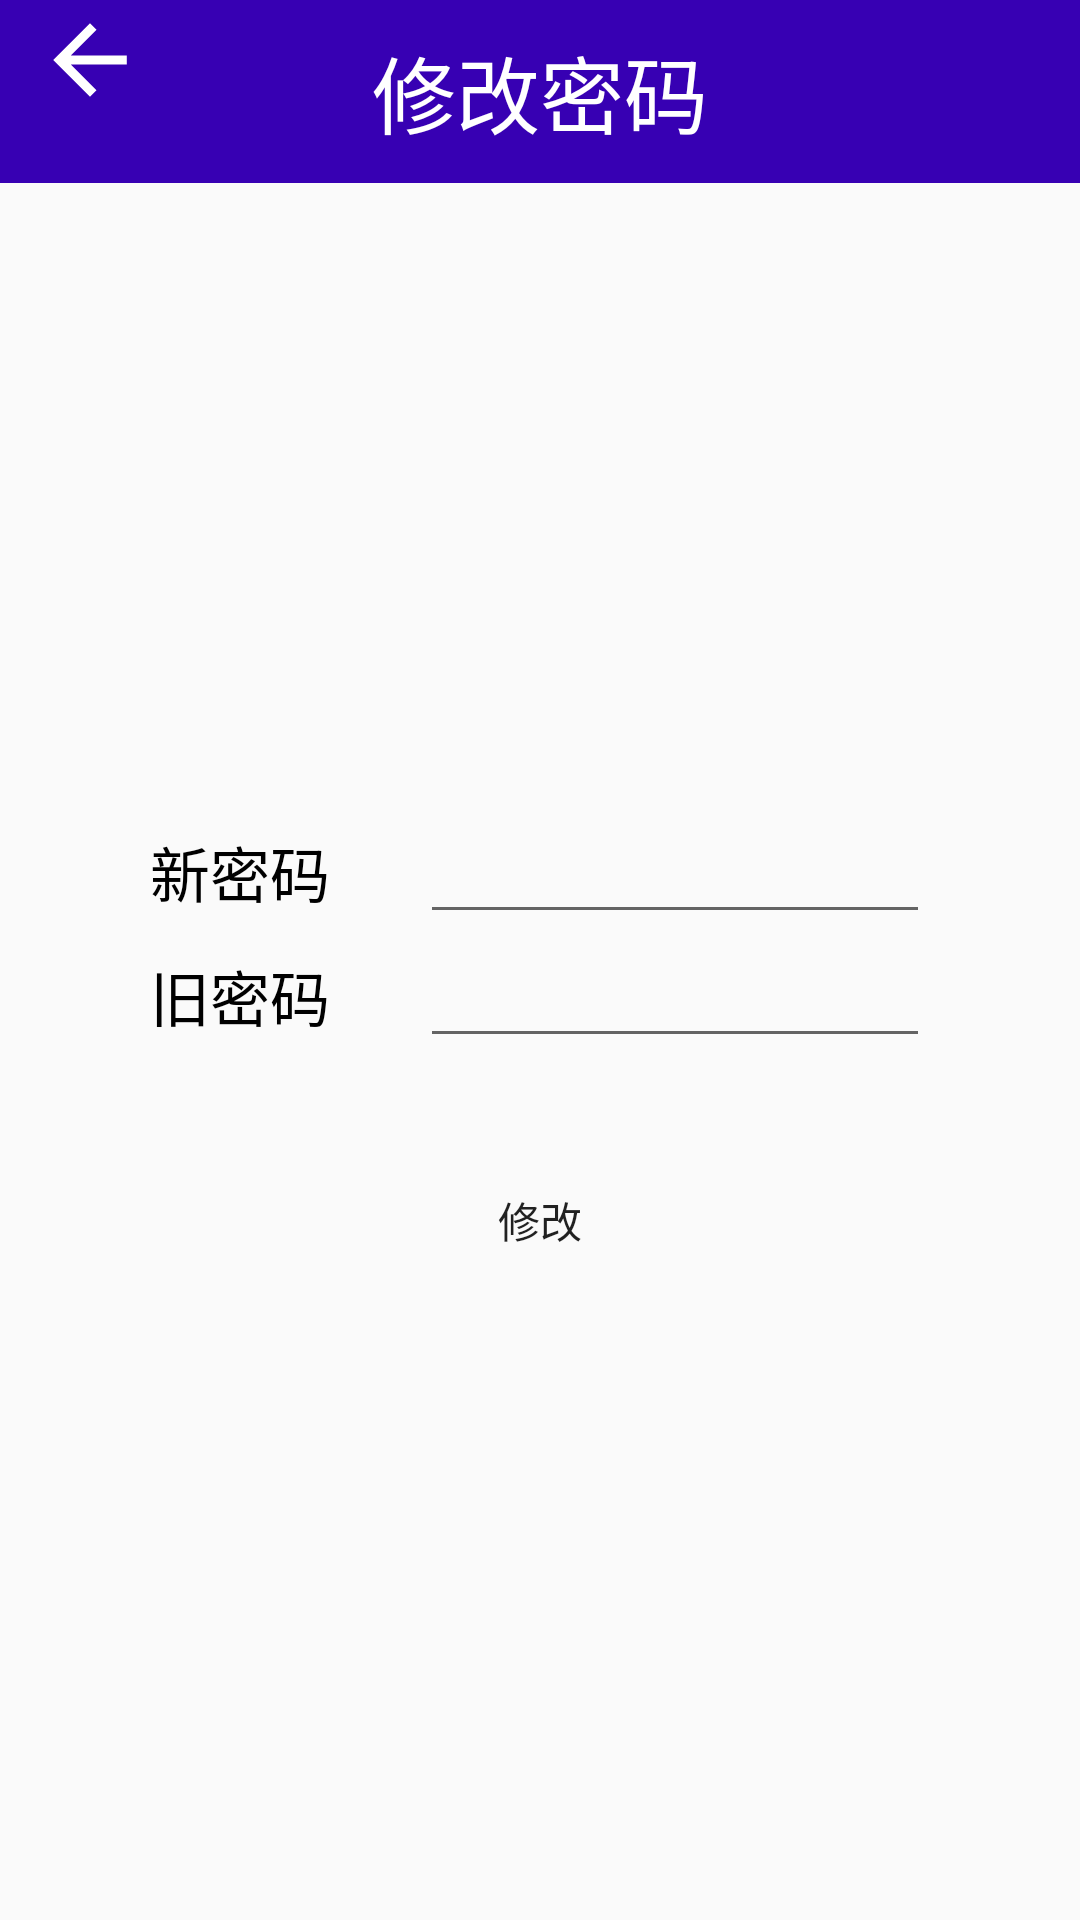

Named icons in this screenshot (1080px x 1920px) and their bounding boxes, (x1,y1,x2,y2):
return: (53,23,127,97)
